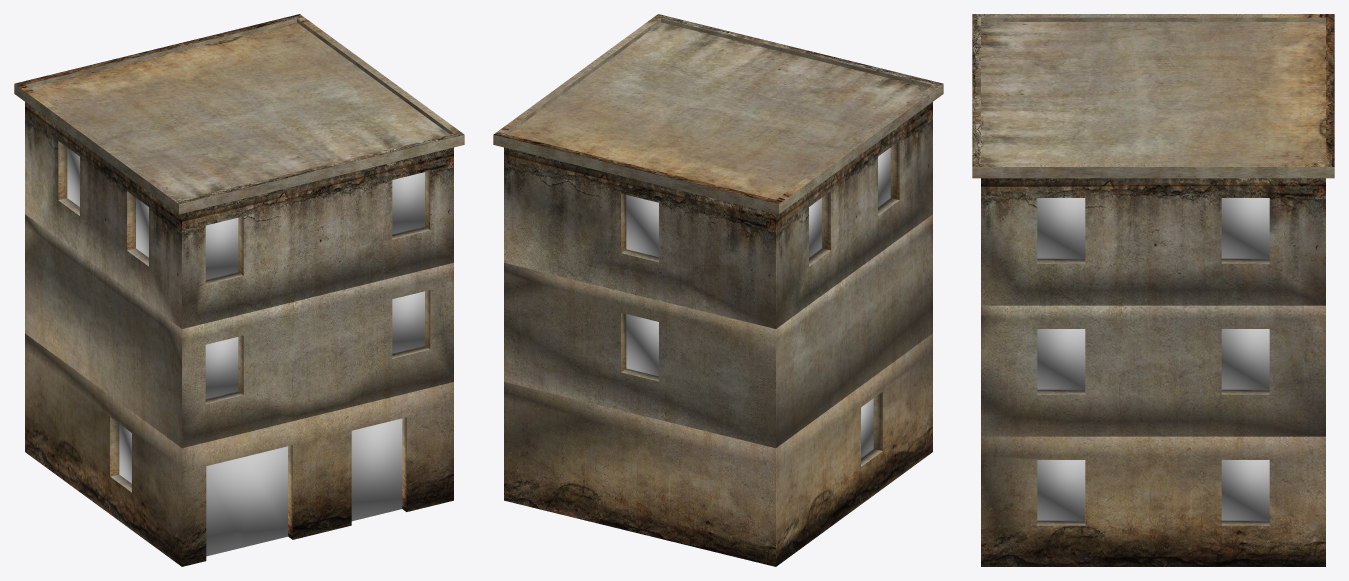
File: BuildingJ_Parts (2).fbx
3 renders of one model, left to right at view 1: azimuth 30°, elevation 25°; view 2: azimuth 150°, elevation 25°; view 3: azimuth 270°, elevation 25°, orthographic. The views are drawn at different scales.
Visible parts, largest first — view 1: BuildingJ2_Roof, BuildingJ2_Wall2, BuildingJ2_Wall3, BuildingJ2_Wall1, BuildingJ2_Door2, BuildingJ2_Door1, BuildingJ2_Window4, BuildingJ2_Window5, BuildingJ2_Window9, BuildingJ2_Window10, BuildingJ2_Window1, BuildingJ2_Window11 (+1 smaller); view 2: BuildingJ2_Roof, BuildingJ2_Wall1, BuildingJ2_Wall2, BuildingJ2_Wall3, BuildingJ2_Window13, BuildingJ2_Window6, BuildingJ2_Window12, BuildingJ2_Window1, BuildingJ2_Window11; view 3: BuildingJ2_Roof, BuildingJ2_Wall2, BuildingJ2_Wall1, BuildingJ2_Wall3, BuildingJ2_Window14, BuildingJ2_Window15, BuildingJ2_Window2, BuildingJ2_Window3, BuildingJ2_Window7, BuildingJ2_Window8.
Part boxes in pixels (<box>): BuildingJ2_Roof: <box>14,14,464,214</box>; BuildingJ2_Wall2: <box>25,214,453,448</box>; BuildingJ2_Wall3: <box>25,102,453,328</box>; BuildingJ2_Wall1: <box>25,333,453,566</box>; BuildingJ2_Door2: <box>206,446,287,556</box>; BuildingJ2_Door1: <box>351,418,402,521</box>; BuildingJ2_Window4: <box>392,290,430,358</box>; BuildingJ2_Window5: <box>205,335,243,404</box>; BuildingJ2_Window9: <box>392,171,430,239</box>; BuildingJ2_Window10: <box>205,216,243,284</box>; BuildingJ2_Window1: <box>110,417,131,492</box>; BuildingJ2_Window11: <box>127,191,148,266</box>; BuildingJ2_Roof: <box>493,14,943,214</box>; BuildingJ2_Wall1: <box>504,333,932,566</box>; BuildingJ2_Wall2: <box>504,214,932,448</box>; BuildingJ2_Wall3: <box>504,102,932,328</box>; BuildingJ2_Window13: <box>621,193,658,262</box>; BuildingJ2_Window6: <box>621,313,658,381</box>; BuildingJ2_Window12: <box>809,191,830,266</box>; BuildingJ2_Window1: <box>861,391,882,466</box>; BuildingJ2_Window11: <box>878,141,899,215</box>; BuildingJ2_Roof: <box>972,14,1334,178</box>; BuildingJ2_Wall2: <box>981,305,1325,436</box>; BuildingJ2_Wall1: <box>981,436,1325,566</box>; BuildingJ2_Wall3: <box>981,178,1325,305</box>; BuildingJ2_Window14: <box>1221,198,1269,263</box>; BuildingJ2_Window15: <box>1037,198,1085,263</box>; BuildingJ2_Window2: <box>1221,460,1269,525</box>; BuildingJ2_Window3: <box>1037,460,1085,525</box>; BuildingJ2_Window7: <box>1221,329,1269,394</box>; BuildingJ2_Window8: <box>1037,329,1085,394</box>.
Size of the model in its own units: 752 by 752 by 924.
